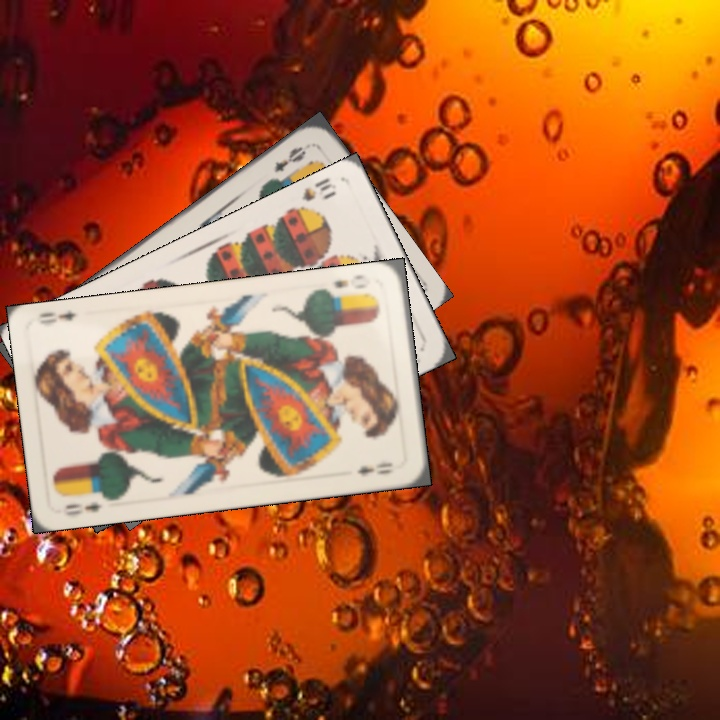EO: (269, 142, 309, 176), (329, 270, 373, 292), (60, 499, 105, 518)
S10: (289, 174, 339, 217)
